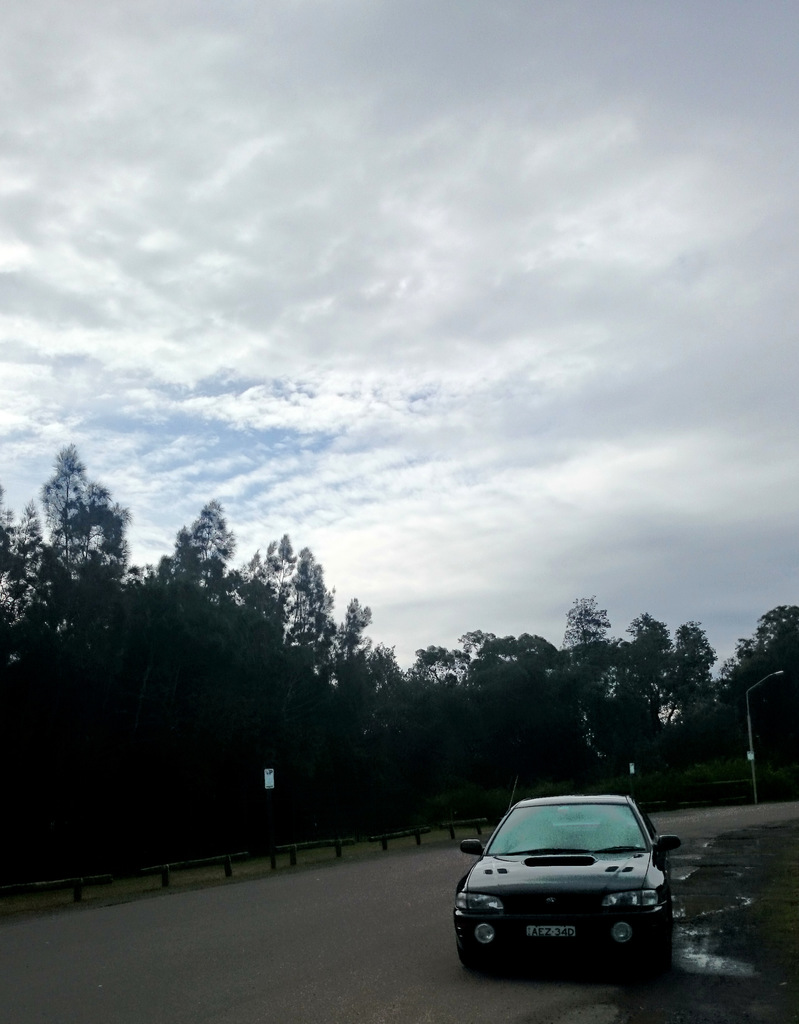Car: (453, 793, 685, 972)
